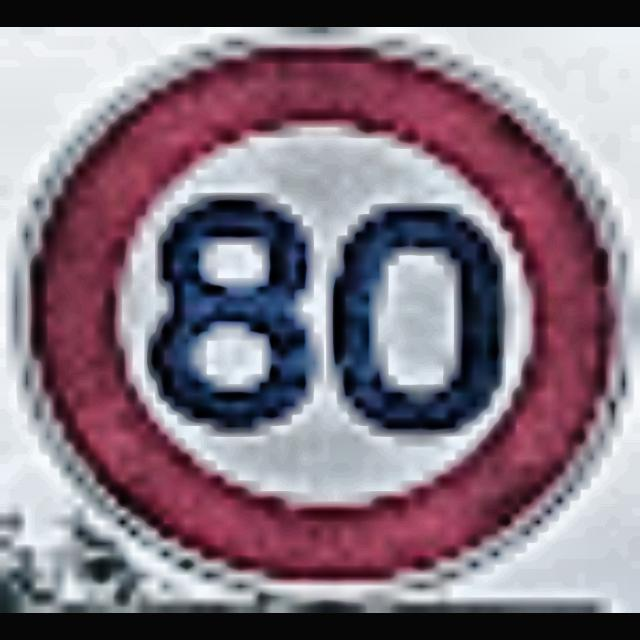speed_80: (0, 27, 640, 613)
